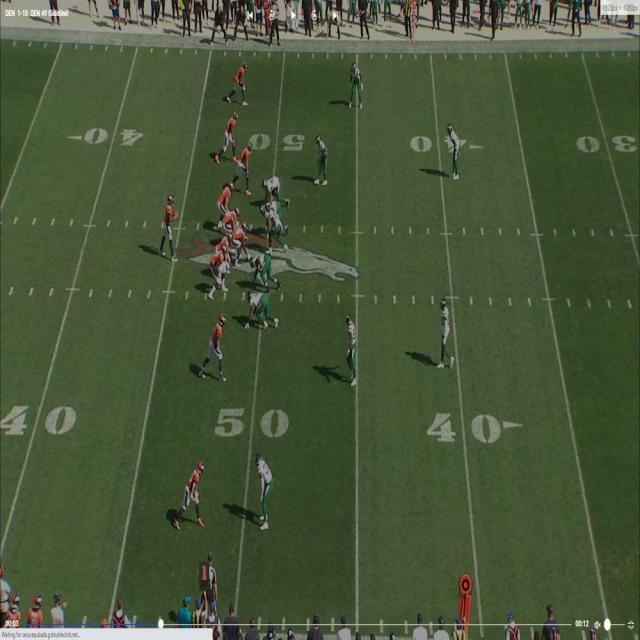center: (234, 223, 249, 259)
db: (256, 457, 272, 525), (439, 303, 454, 372), (312, 136, 327, 186), (448, 126, 460, 176), (352, 64, 362, 108)
lb: (265, 202, 284, 254), (349, 316, 358, 371)
qb: (161, 195, 175, 261)
skill: (179, 461, 203, 520), (209, 312, 227, 372), (222, 110, 239, 154), (233, 60, 248, 102), (238, 142, 254, 178)
